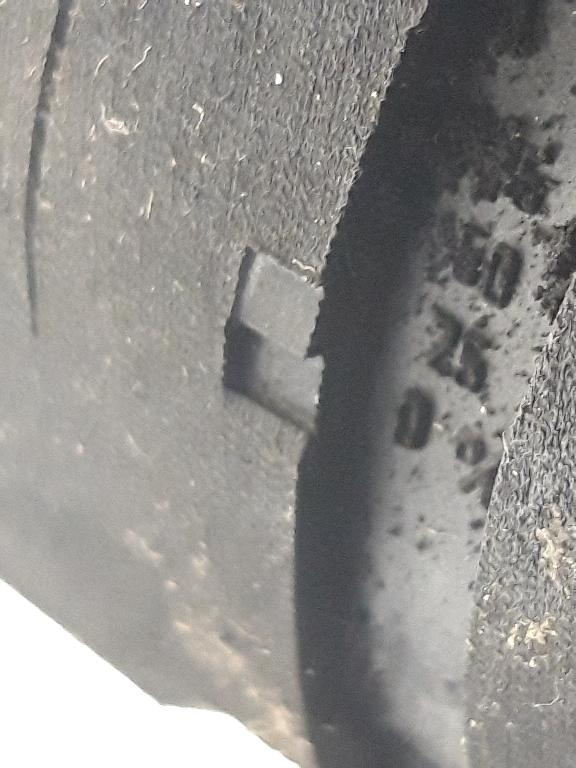temoin:25: (187, 231, 400, 472)
